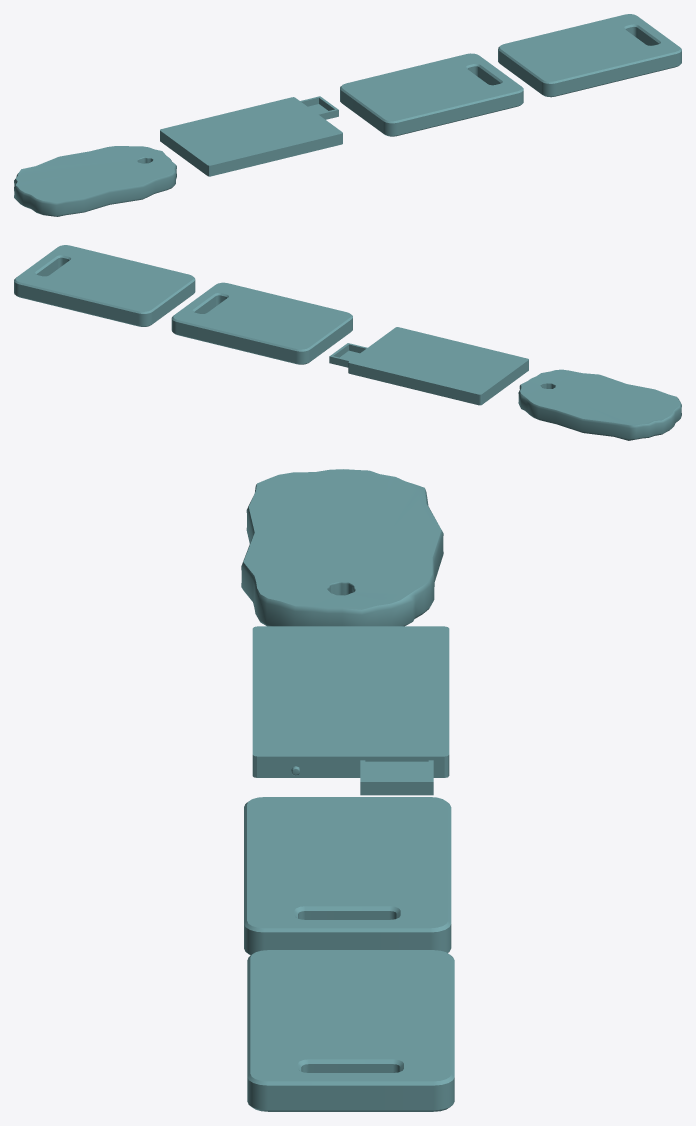
File: sm_cutting_boards.fbx
The picture shows the model from 3 angles, top to bottom: view 1: azimuth 30°, elevation 25°; view 2: azimuth 150°, elevation 25°; view 3: azimuth 270°, elevation 25°; orthographic projection. The views are drawn at different scales.
Parts seen in each view (by area): view 1: SM_CUTTING_BOARD_G, SM_CUTTING_BOARD_M, SM_CUTTING_BOARD_IA1, SM_CUTTING_BOARD_ROCK; view 2: SM_CUTTING_BOARD_M, SM_CUTTING_BOARD_G, SM_CUTTING_BOARD_IA1, SM_CUTTING_BOARD_ROCK; view 3: SM_CUTTING_BOARD_G, SM_CUTTING_BOARD_M, SM_CUTTING_BOARD_IA1, SM_CUTTING_BOARD_ROCK.
Part boxes in pixels (bbox=[...]): SM_CUTTING_BOARD_G: bbox=[498, 14, 681, 97]; SM_CUTTING_BOARD_M: bbox=[340, 53, 523, 136]; SM_CUTTING_BOARD_IA1: bbox=[160, 96, 342, 176]; SM_CUTTING_BOARD_ROCK: bbox=[14, 146, 176, 216]; SM_CUTTING_BOARD_M: bbox=[171, 282, 352, 364]; SM_CUTTING_BOARD_G: bbox=[14, 245, 195, 326]; SM_CUTTING_BOARD_IA1: bbox=[329, 327, 528, 405]; SM_CUTTING_BOARD_ROCK: bbox=[518, 369, 681, 440]; SM_CUTTING_BOARD_G: bbox=[247, 950, 454, 1111]; SM_CUTTING_BOARD_M: bbox=[244, 797, 451, 955]; SM_CUTTING_BOARD_IA1: bbox=[252, 626, 449, 795]; SM_CUTTING_BOARD_ROCK: bbox=[241, 469, 443, 626].
Bounding box in the file's own units: 243 × 6.04 × 35.36.
